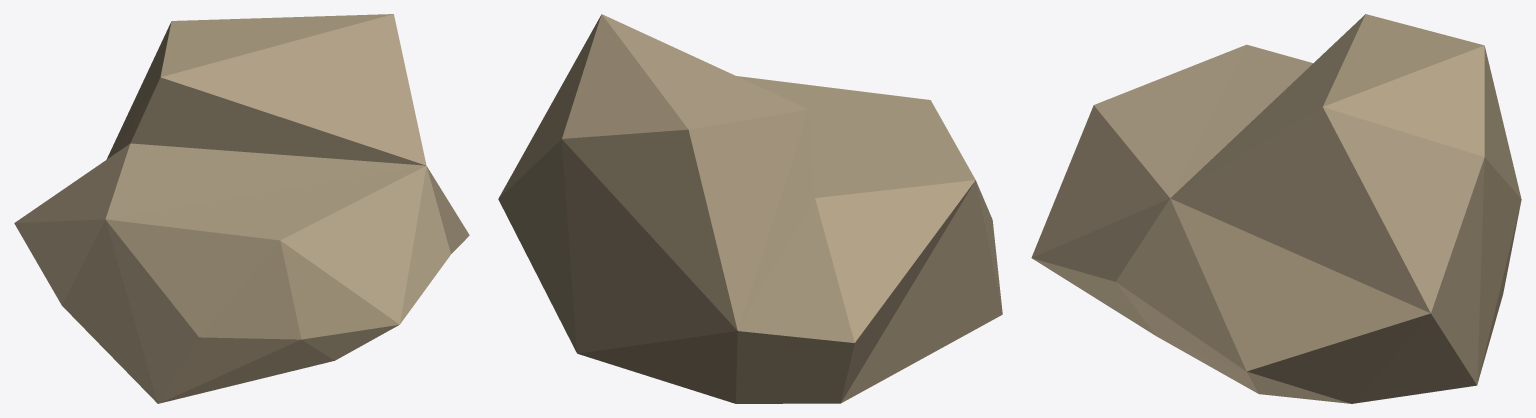
Rendered from Boulder-B06.fbx.
The picture shows the model from 3 angles, left to right: view 1: azimuth 30°, elevation 25°; view 2: azimuth 150°, elevation 25°; view 3: azimuth 270°, elevation 25°; orthographic projection. The views are drawn at different scales.
Visible parts, largest first — view 1: Boulder-B06; view 2: Boulder-B06; view 3: Boulder-B06.
Part boxes in pixels (x1,y1,x2,y2): Boulder-B06: (14, 14, 469, 403); Boulder-B06: (498, 14, 1002, 403); Boulder-B06: (1031, 14, 1521, 403).
Bounding box in the file's own units: 120 × 80.52 × 118.
